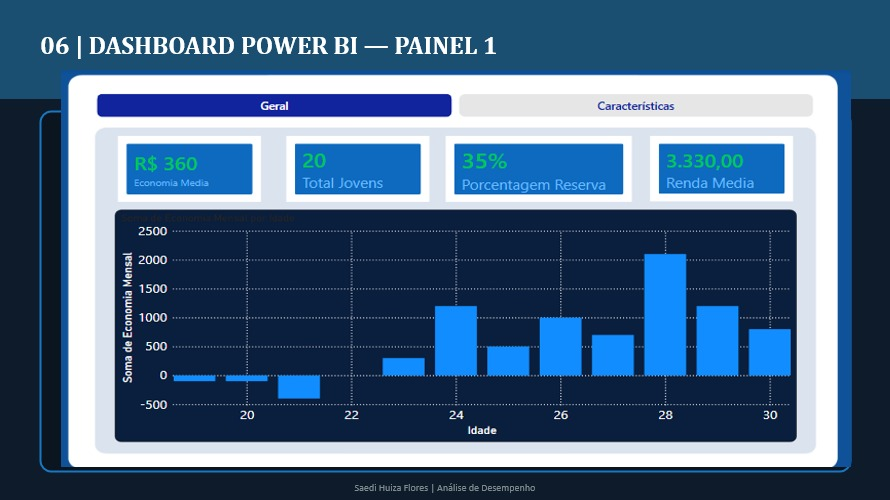

The dashboard page shown, as its layout file describes it:
{"tool":"powerbi","page":{"name":"Geral","canvas":[1280,720],"ordinal":0},"visuals":[{"type":"cardVisual","fields":{"Data":["Pasta33.Total Jovens"]},"box":[369,112.9,235.4,125.7],"z":0},{"type":"cardVisual","fields":{"Data":["Pasta33.Porcentagem Reserva"]},"box":[620.3,114.5,303.8,125.7],"z":1000},{"type":"cardVisual","fields":{"Data":["Pasta33.Economia Media"]},"box":[103.4,112.9,235.4,125.7],"z":2000},{"type":"cardVisual","fields":{"Data":["Pasta33.Renda Media"]},"box":[943.2,114.5,235.4,124.1],"z":3000},{"type":"clusteredColumnChart","fields":{"Category":["Pasta33.Idade"],"Y":["Sum(Pasta33.Economia Mensal)"]},"box":[103.4,248.1,1075.2,405.6],"z":4000},{"type":"pageNavigator","box":[74.8,44.5,1130.9,41.4],"z":4001}]}

Visuals, with their boxes in screenshot pixels (x1, y1, x2, y2), scaled from the page's 1280x720 canvas onto the 890x500 screenshot:
cardVisual - Pasta33.Total Jovens: x1=257, y1=78, x2=420, y2=166
cardVisual - Pasta33.Porcentagem Reserva: x1=431, y1=80, x2=643, y2=167
cardVisual - Pasta33.Economia Media: x1=72, y1=78, x2=236, y2=166
cardVisual - Pasta33.Renda Media: x1=656, y1=80, x2=819, y2=166
clusteredColumnChart - Pasta33.Idade x Sum(Pasta33.Economia Mensal): x1=72, y1=172, x2=819, y2=454
pageNavigator: x1=52, y1=31, x2=838, y2=60
